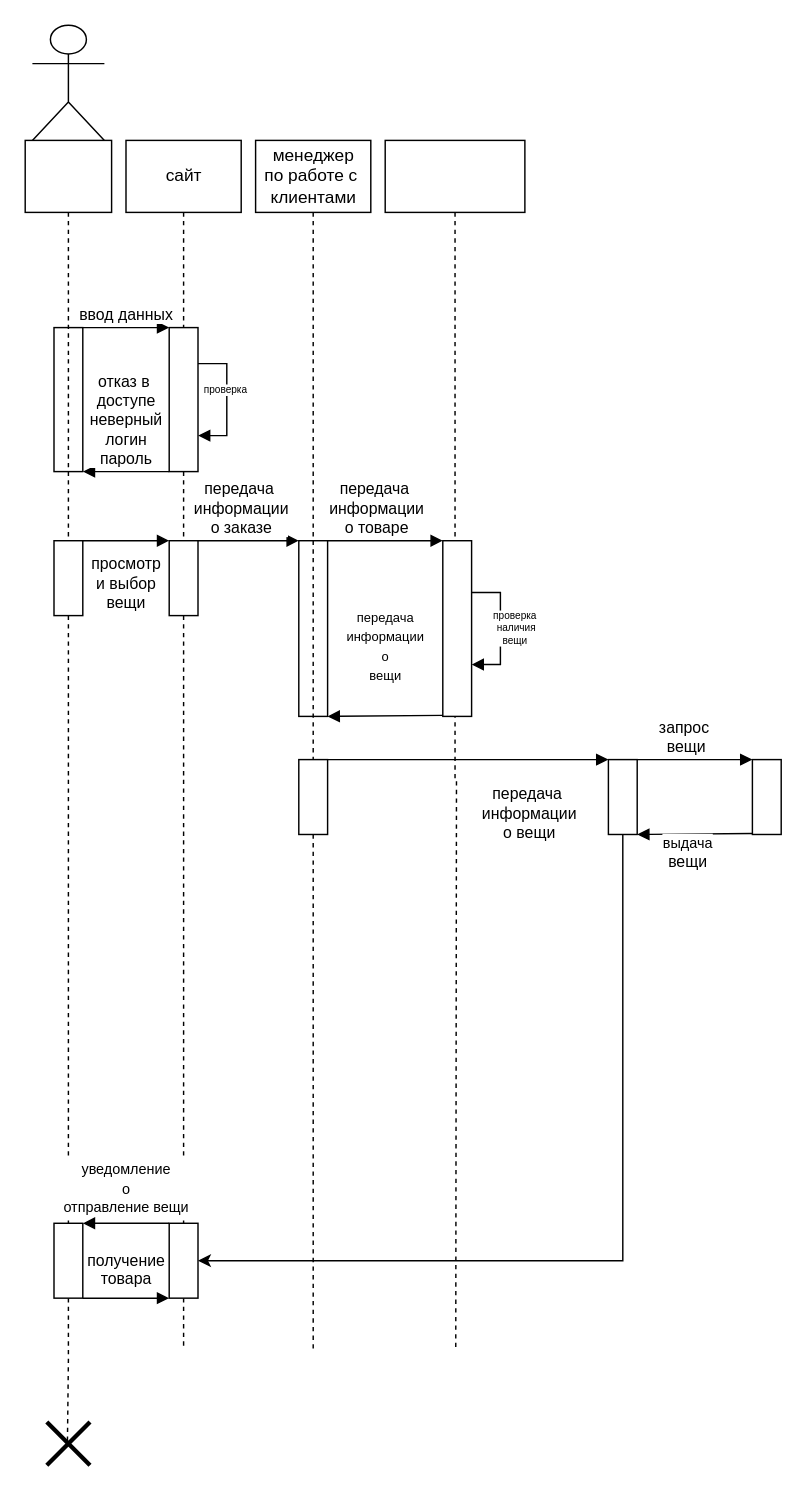
This 806x1492 diagram has some shape labels left out. Each missing label, with the centre of its shape:
клиент: (68,175)
менеджер по снабжению: (454,175)
